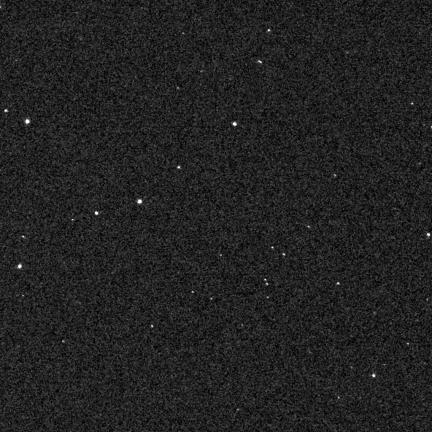blob: (26, 119, 30, 125), (336, 282, 341, 286), (138, 200, 142, 204), (5, 109, 9, 113), (18, 264, 22, 268), (258, 60, 262, 64), (233, 122, 237, 126), (268, 29, 272, 33), (372, 373, 375, 377), (151, 325, 154, 329), (282, 254, 286, 257), (427, 233, 430, 237), (210, 298, 214, 301), (411, 103, 414, 106), (95, 212, 98, 215), (177, 166, 180, 169), (192, 291, 195, 294)
